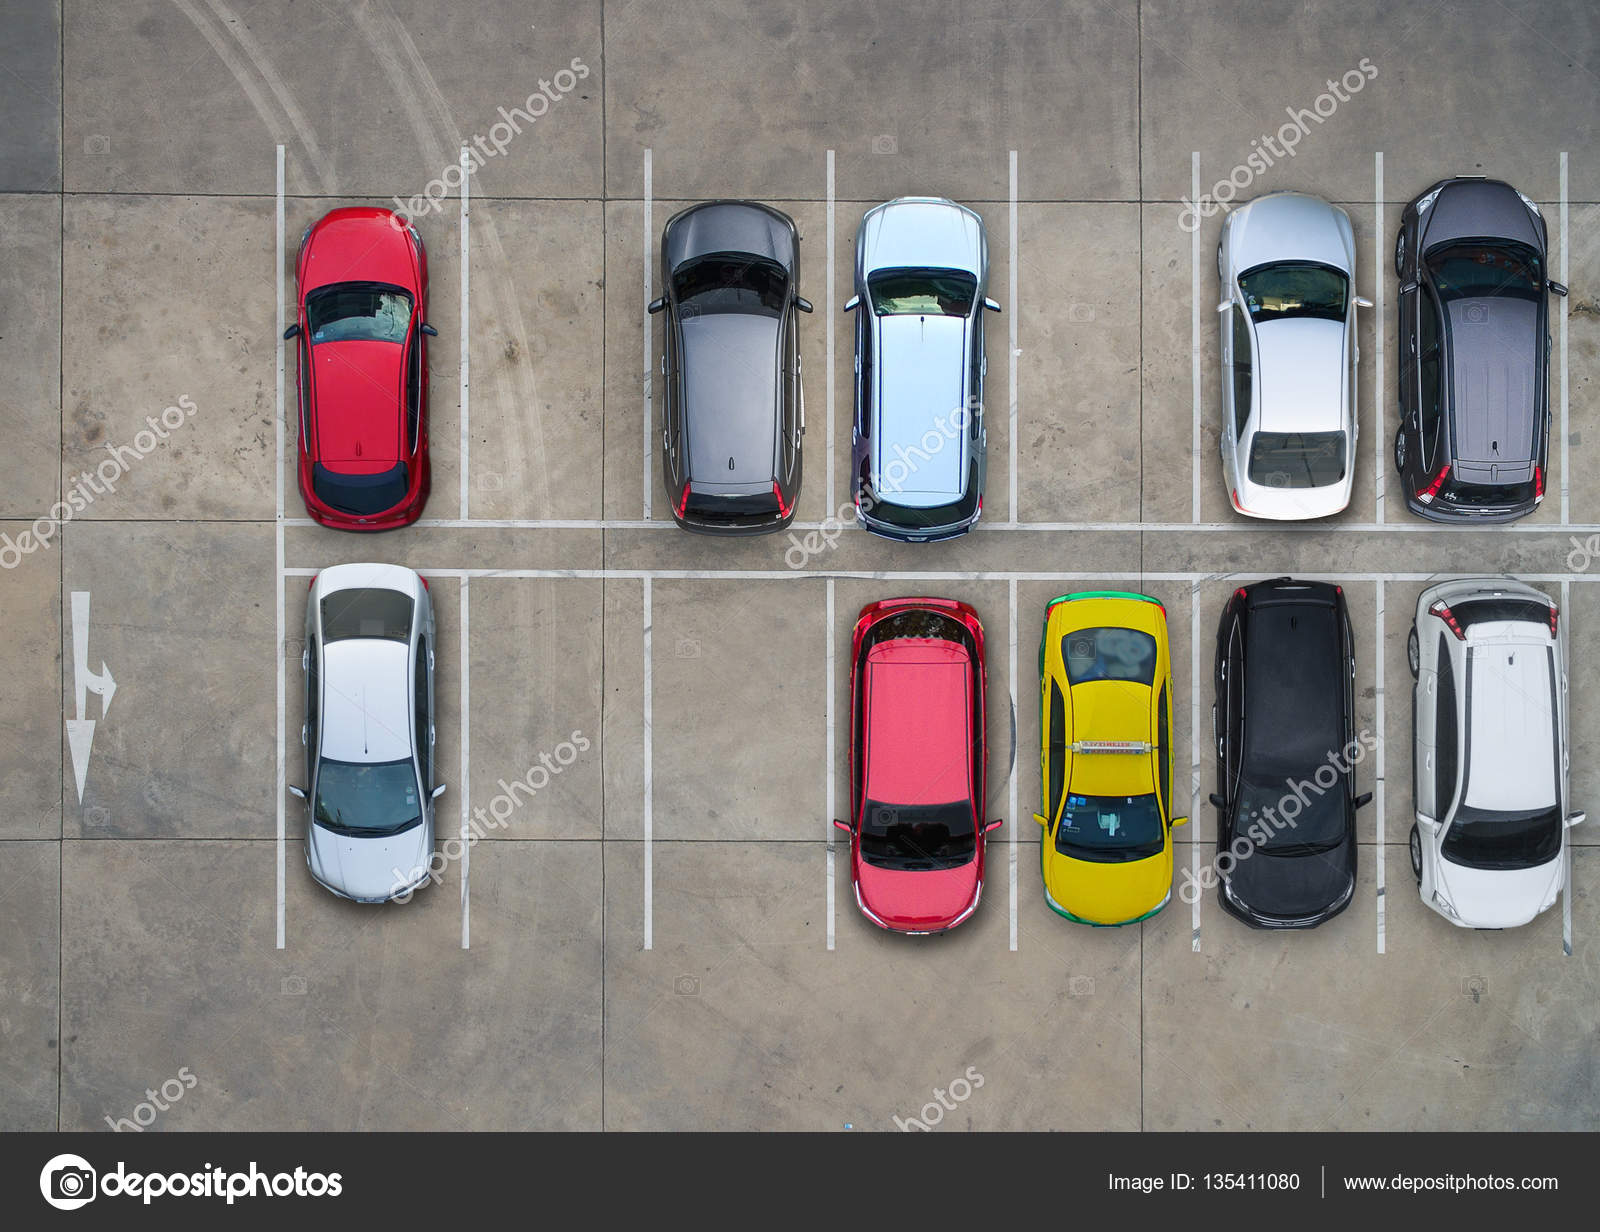Car: (1398, 573, 1570, 938), (1383, 172, 1556, 522), (1204, 577, 1363, 936), (297, 562, 444, 916), (852, 190, 993, 547), (1218, 181, 1365, 523), (1037, 582, 1178, 929), (854, 594, 993, 942), (673, 194, 805, 544), (309, 204, 424, 540)
LaneMark: (446, 568, 1578, 582), (270, 133, 288, 958), (1363, 144, 1390, 540), (1372, 569, 1394, 962), (1553, 142, 1575, 531), (1187, 564, 1205, 971), (636, 138, 654, 523), (1187, 144, 1205, 527), (1006, 142, 1024, 522), (457, 144, 473, 538), (457, 564, 473, 958), (823, 566, 839, 958), (1006, 568, 1022, 965), (643, 562, 657, 965), (823, 142, 837, 544), (1004, 516, 1217, 534), (1376, 520, 1597, 534)
